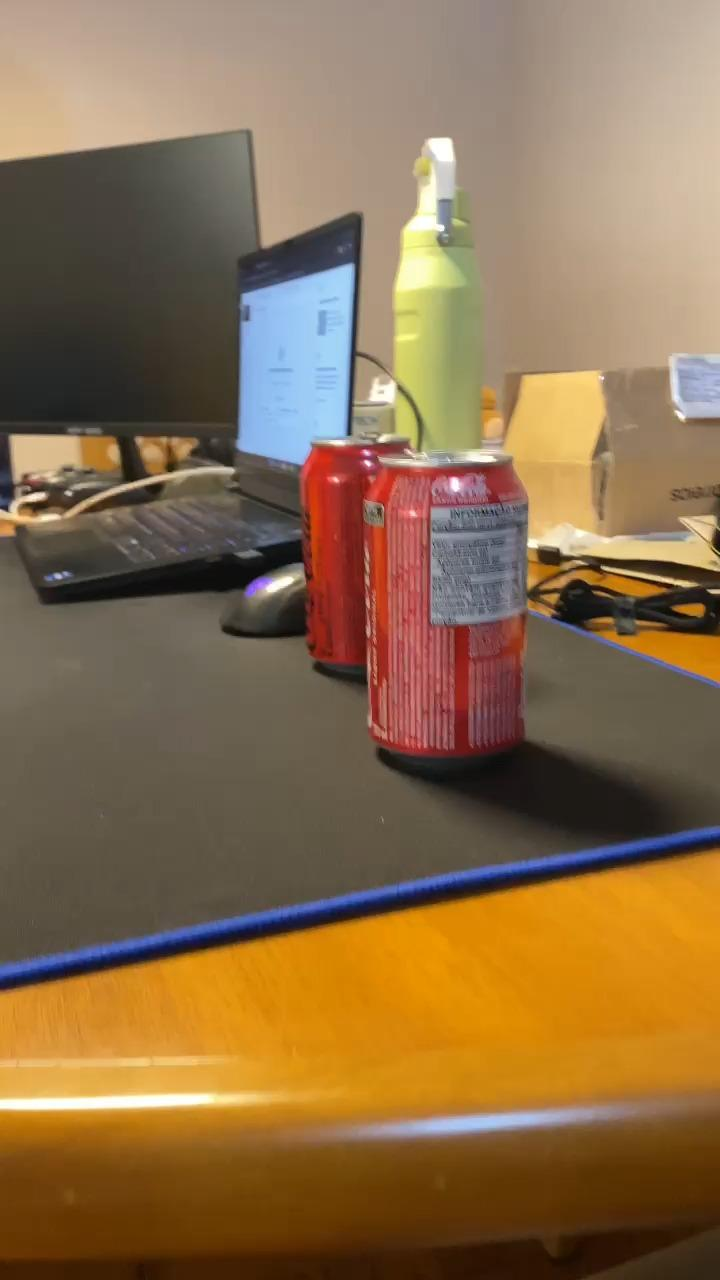coke: (366, 456, 530, 755), (301, 434, 416, 680)
